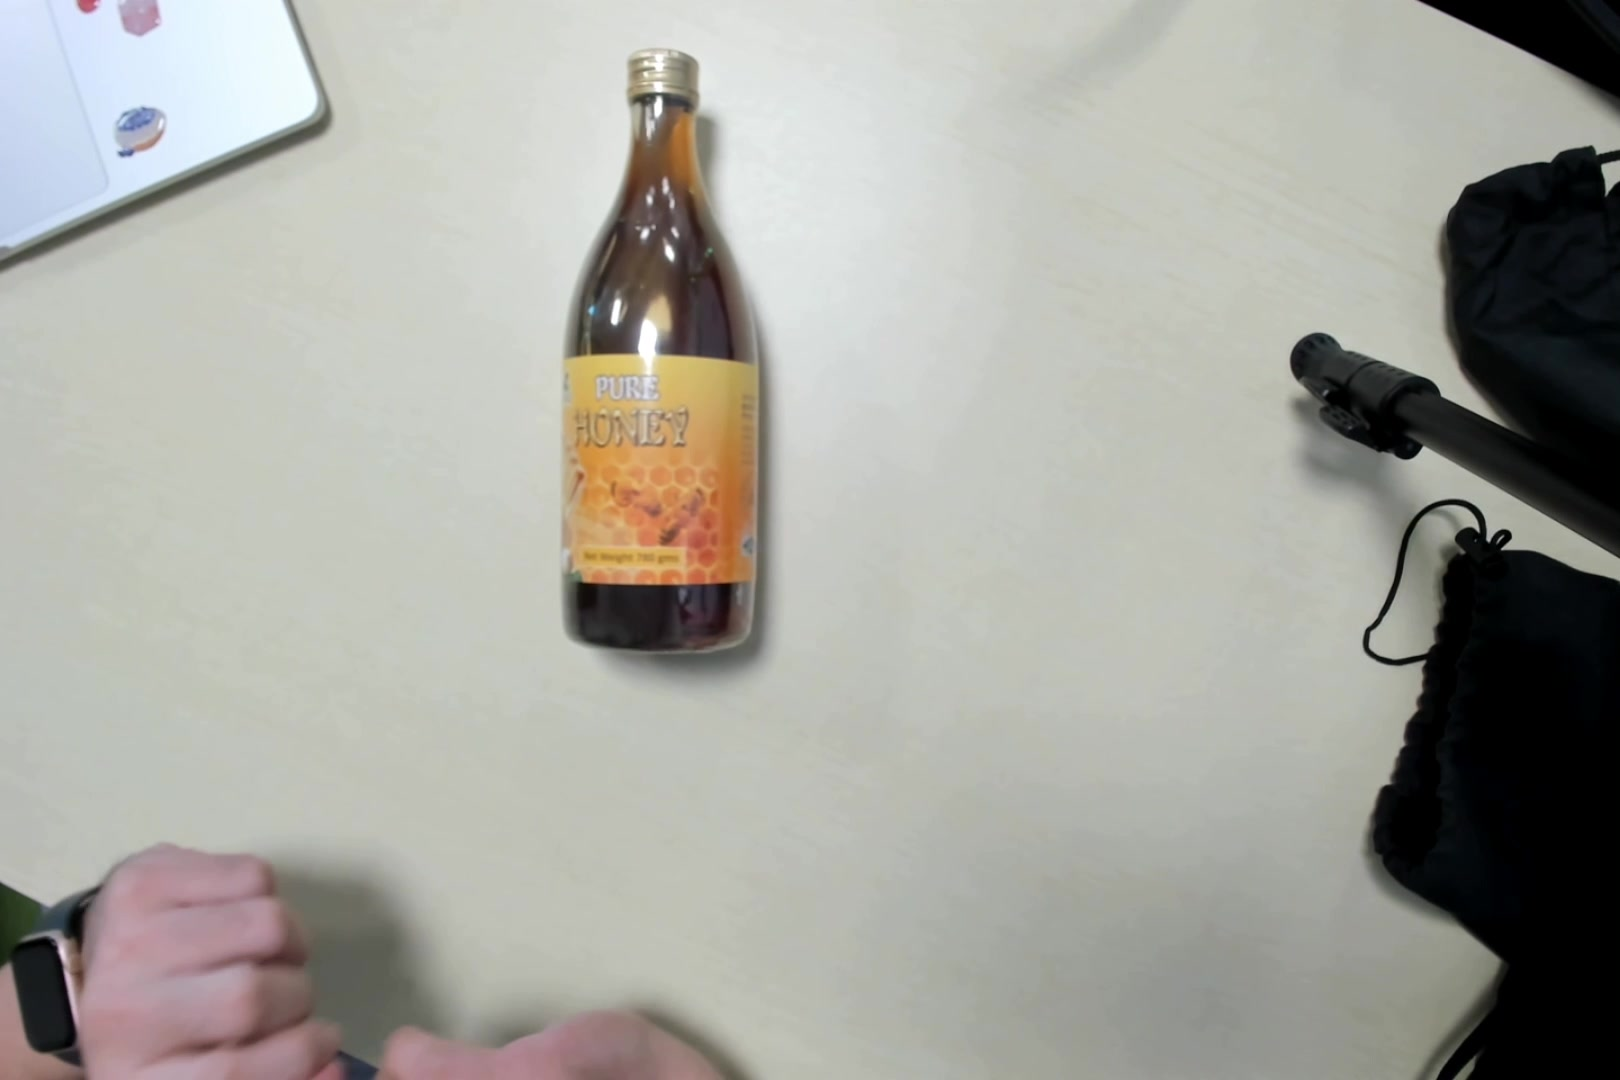OtherBakingNeeds_700-799g_Halal_NonHealthy: (559, 47, 763, 648)
